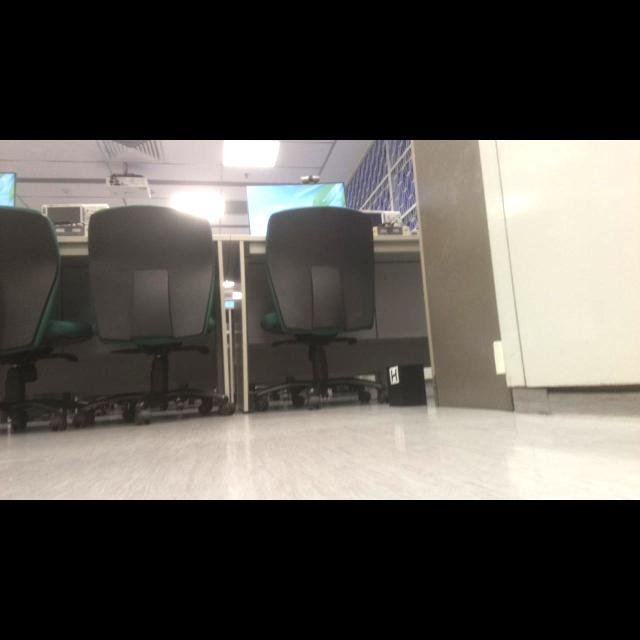H: (391, 368, 398, 382)
